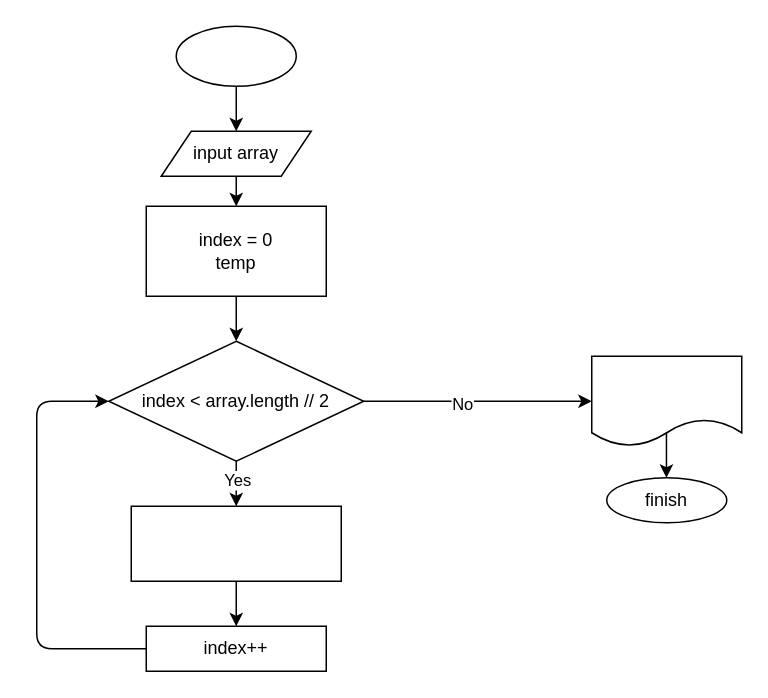
Some shapes in this 768 by 698 pixel diagram are drawn without their labels. Each missing label, with the centre of its shape:
"array[index] = array[array.length-index]" belongs at [235,543].
"print arrray" belongs at [666,400].
"start" belongs at [235,55].
